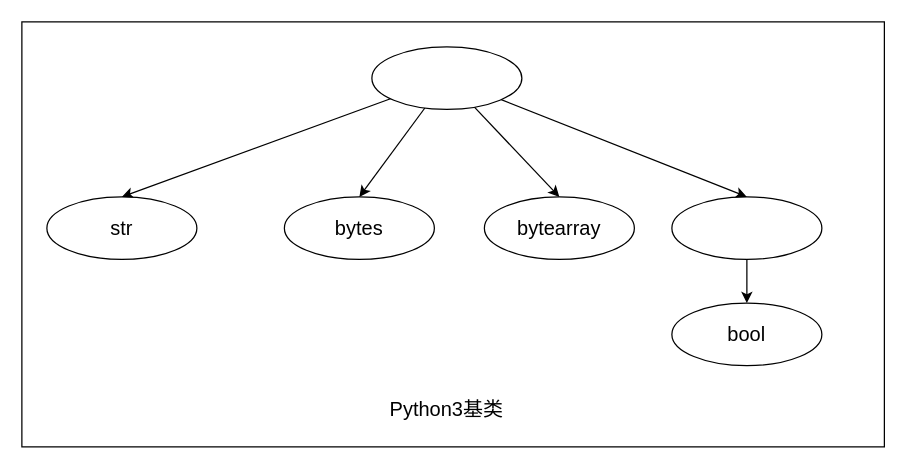
This 906x469 diagram has some shape labels left out. The shapes that lost their labels are listed below. From the top down, each one's box as (x1, y1, x2, y2) in pixels, then its label:
(371, 46, 522, 109): object
(671, 196, 822, 259): int
